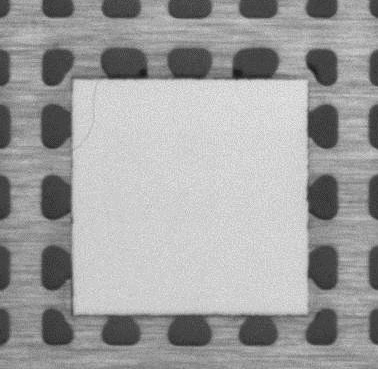DIE_CRACK: (73, 78, 100, 151)
